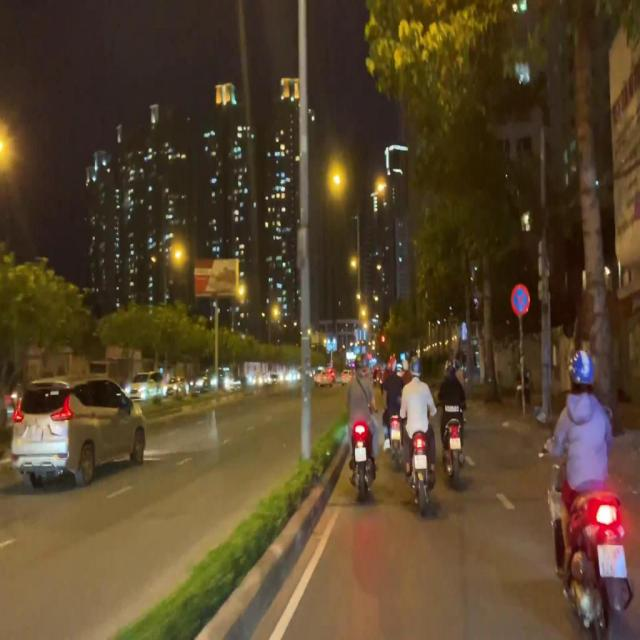cam_dung_xe_va_do_xe: (512, 283, 530, 317)
